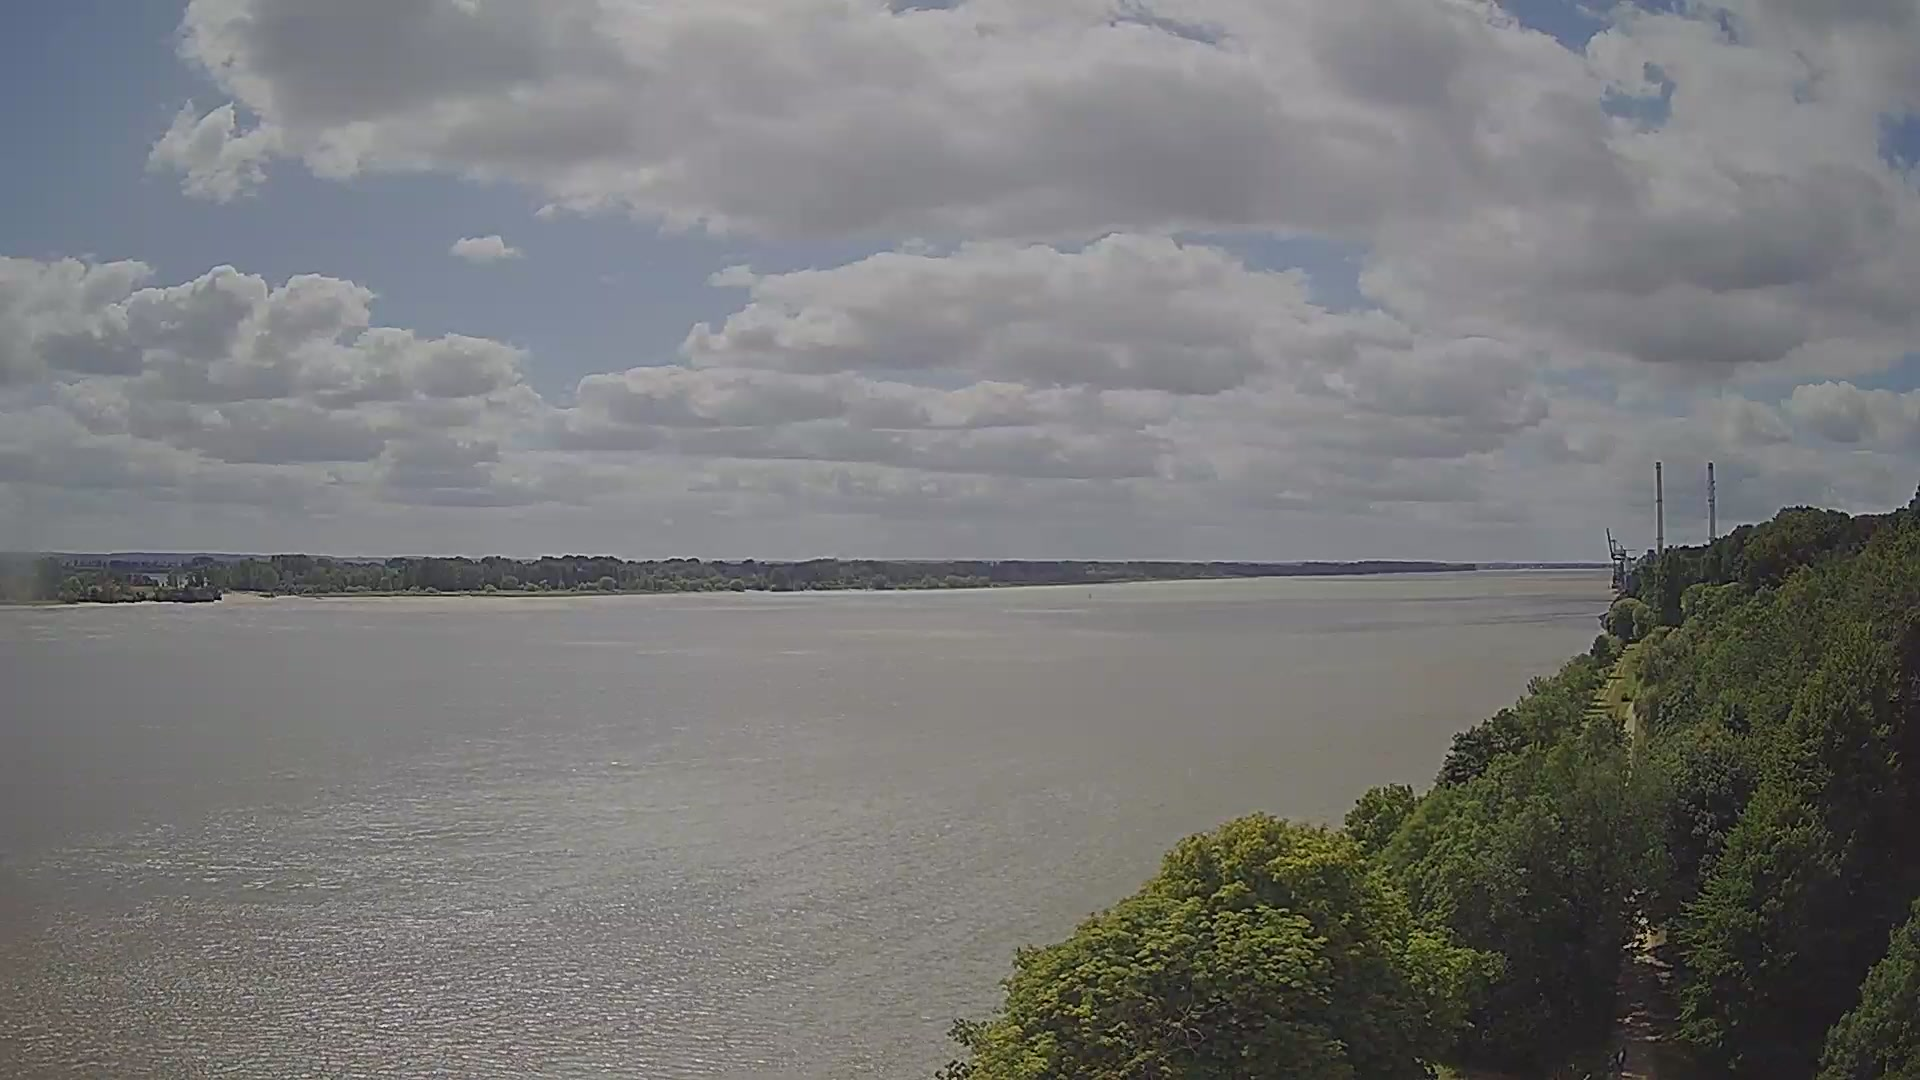human: (1615, 1046, 1625, 1074)
